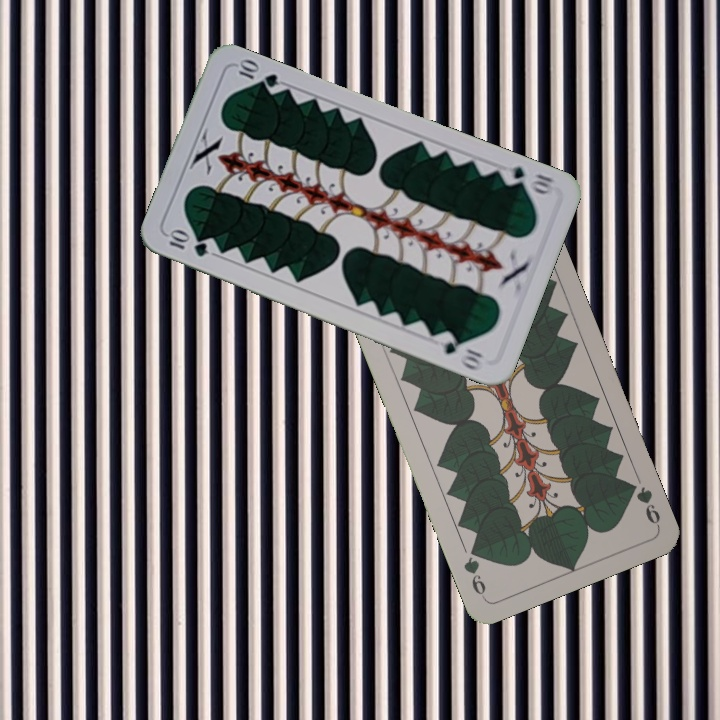G10: (497, 162, 557, 198), (162, 227, 212, 260)
G9: (623, 477, 663, 529)
